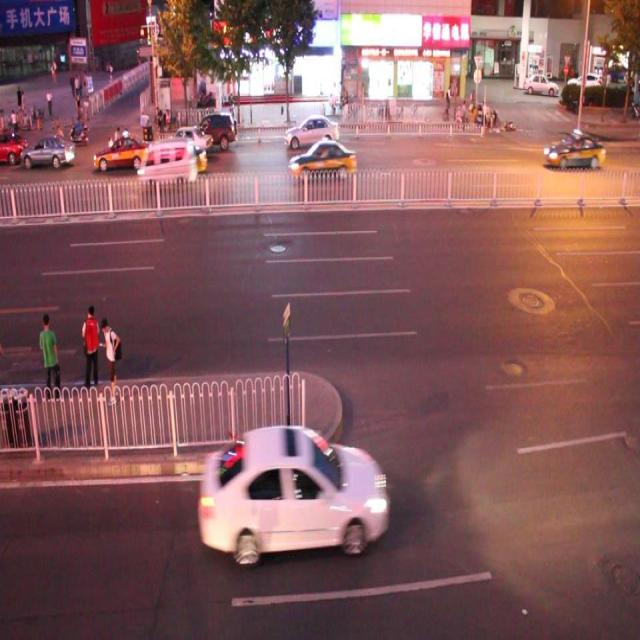car: (199, 424, 388, 563), (289, 139, 356, 181), (543, 128, 604, 169), (147, 141, 203, 177), (93, 134, 148, 169), (284, 114, 338, 149), (21, 134, 76, 168), (189, 112, 236, 151), (160, 123, 210, 158), (1, 129, 28, 165)
truck: (136, 142, 196, 189)
